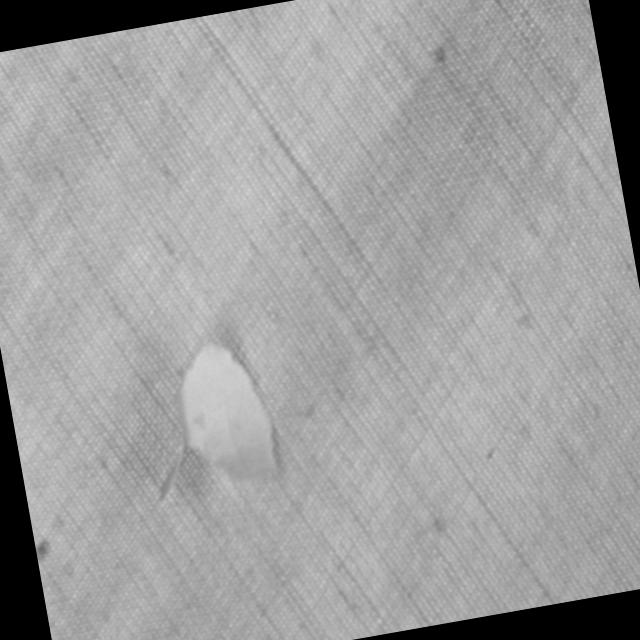objects: (160, 330, 290, 502)
